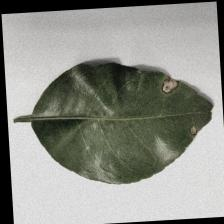canker: (154, 64, 206, 143)
